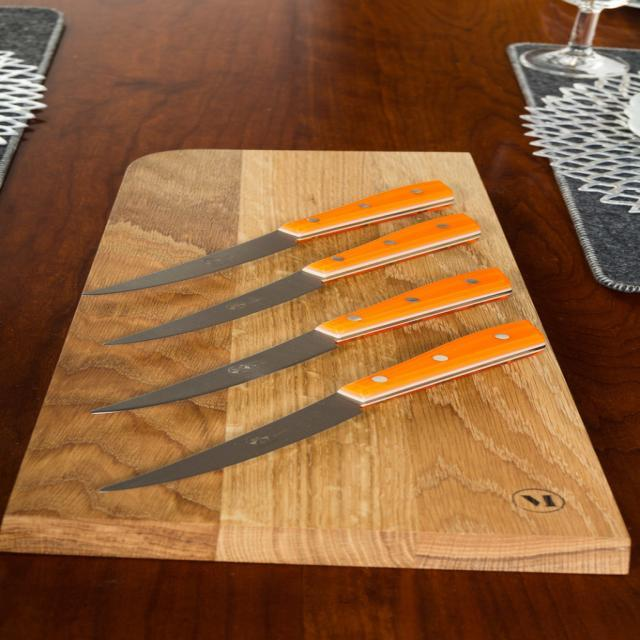Knife: (101, 320, 550, 493), (90, 267, 514, 414), (104, 214, 481, 345), (83, 180, 454, 295)
